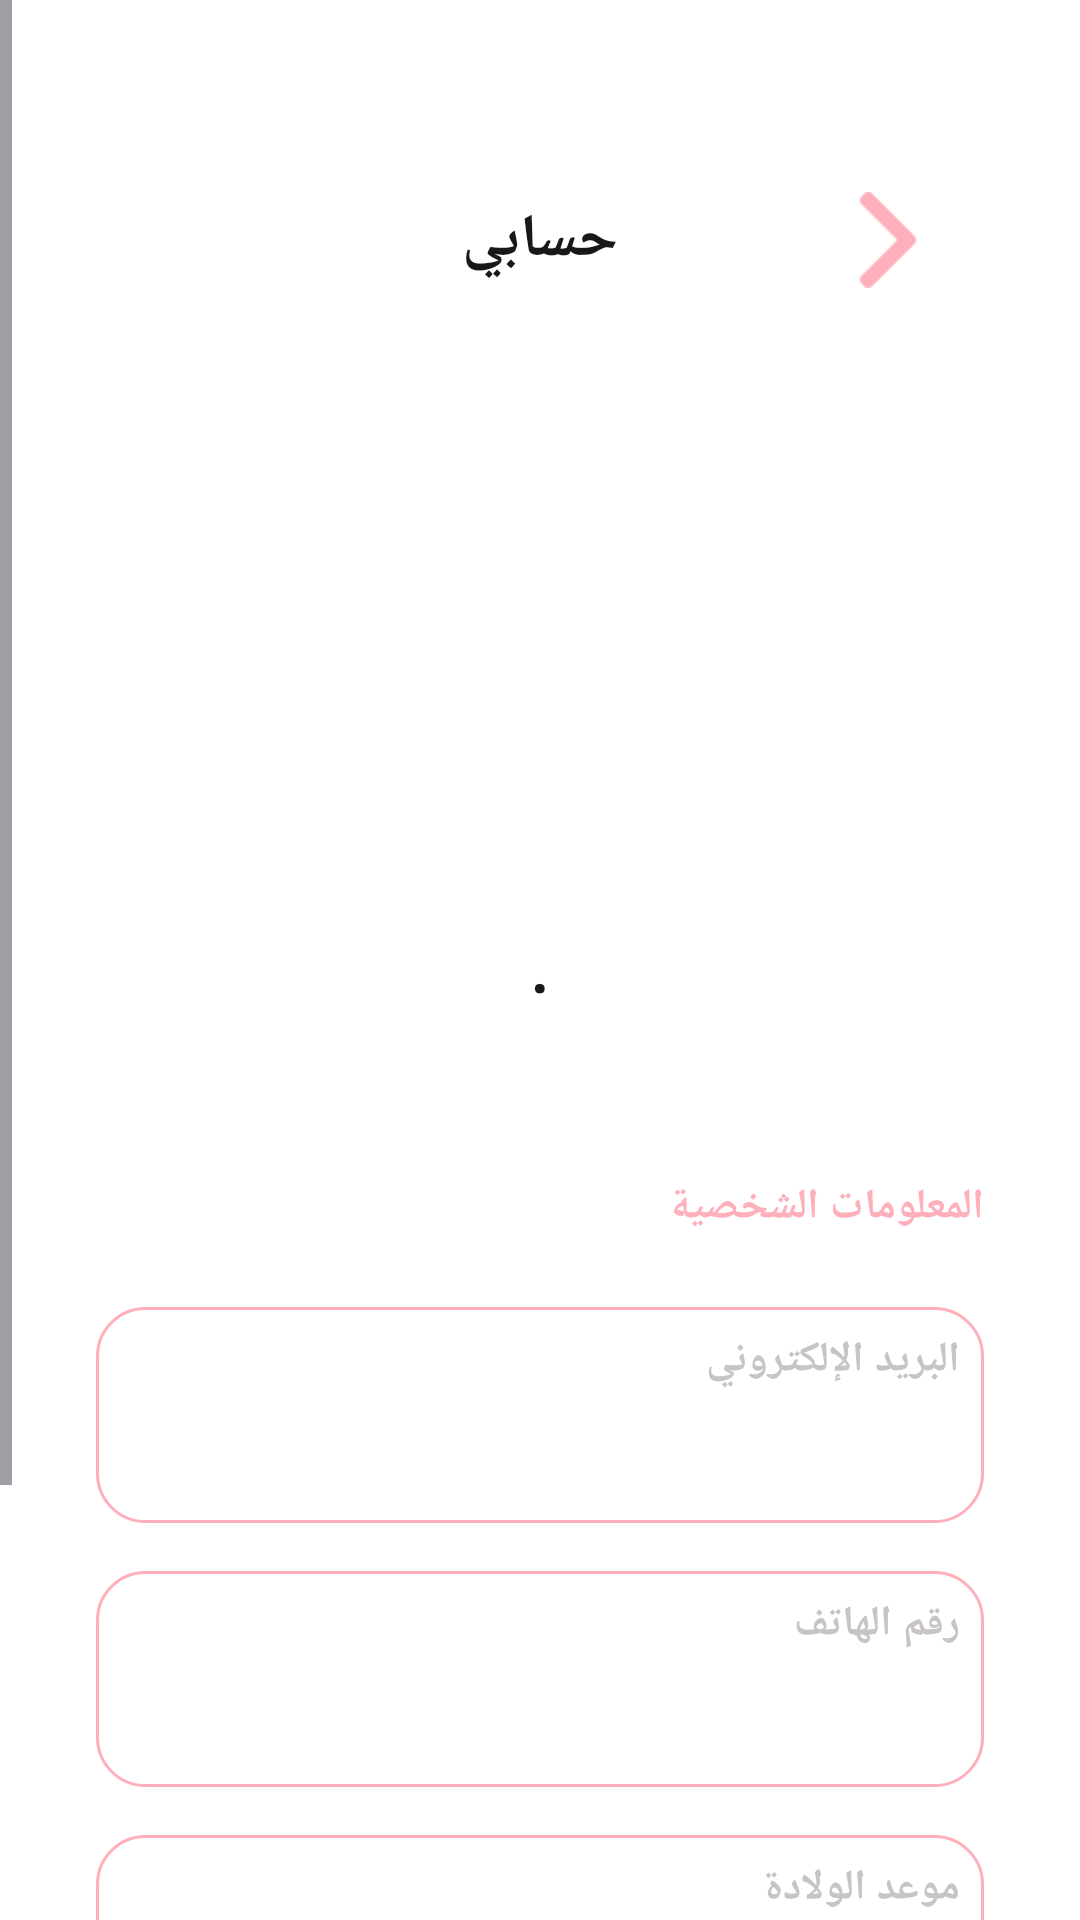

Named icons in this screenshot (1080 x 1920) and their centers, (x=x, y=y):
rightarrow: (x=888, y=240)
